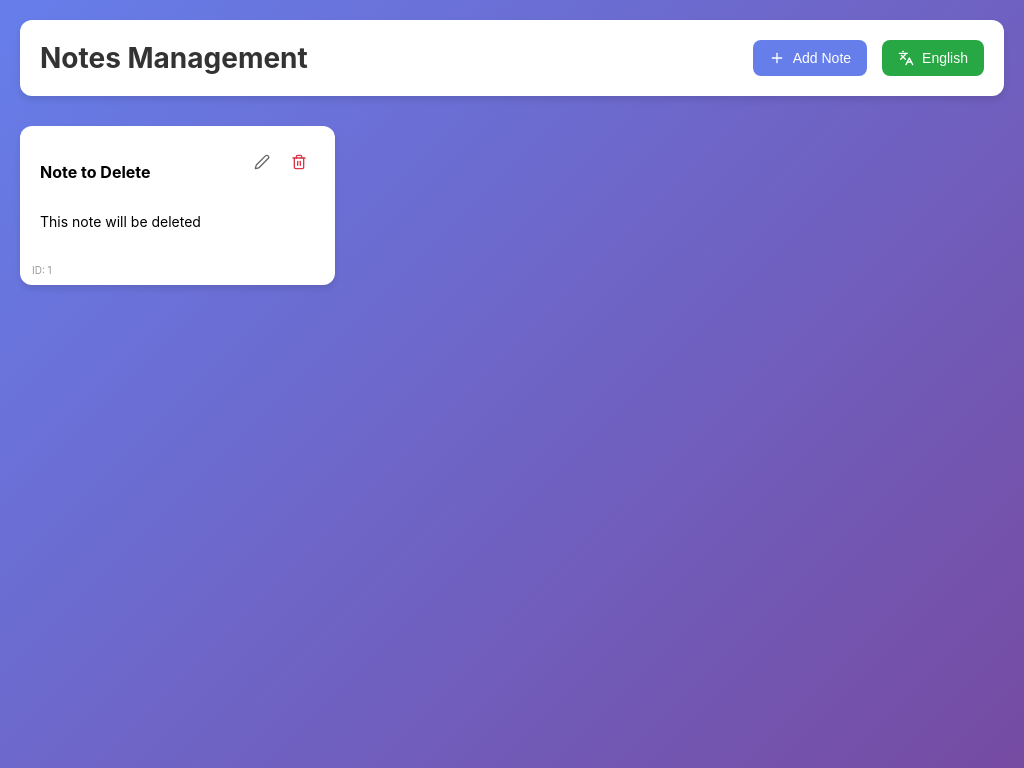
Notes Application E2E Tests › should delete a note with confirmation
Click the button with class "btn-danger": (299, 162) [283,146,315,178]
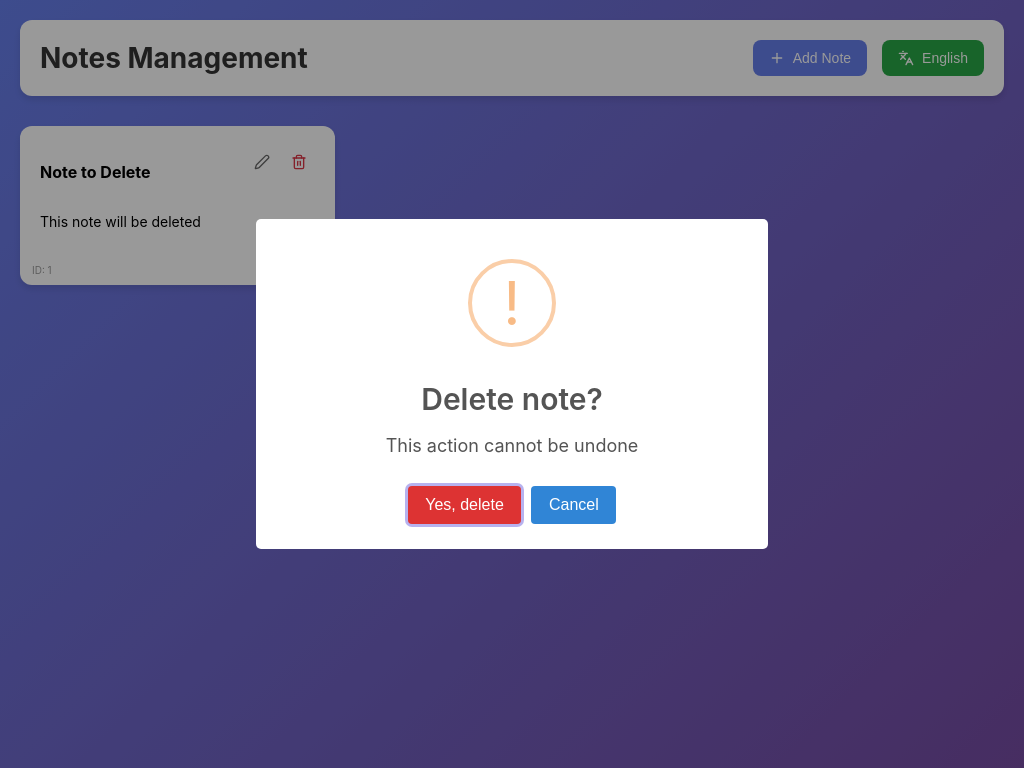
Expected: the dialog with class "swal2-popup" is shown, [256,219,768,549]
Click the button with class "swal2-confirm": (465, 505) [408,486,522,524]
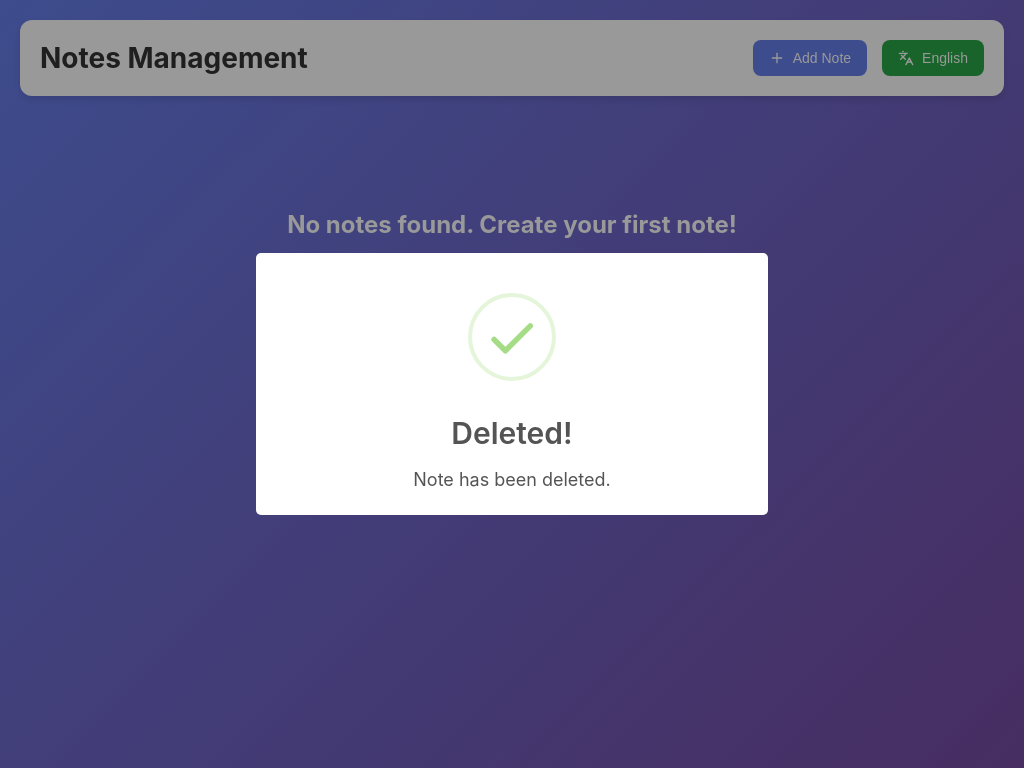
Expected: the element with class "note-card" is gone
